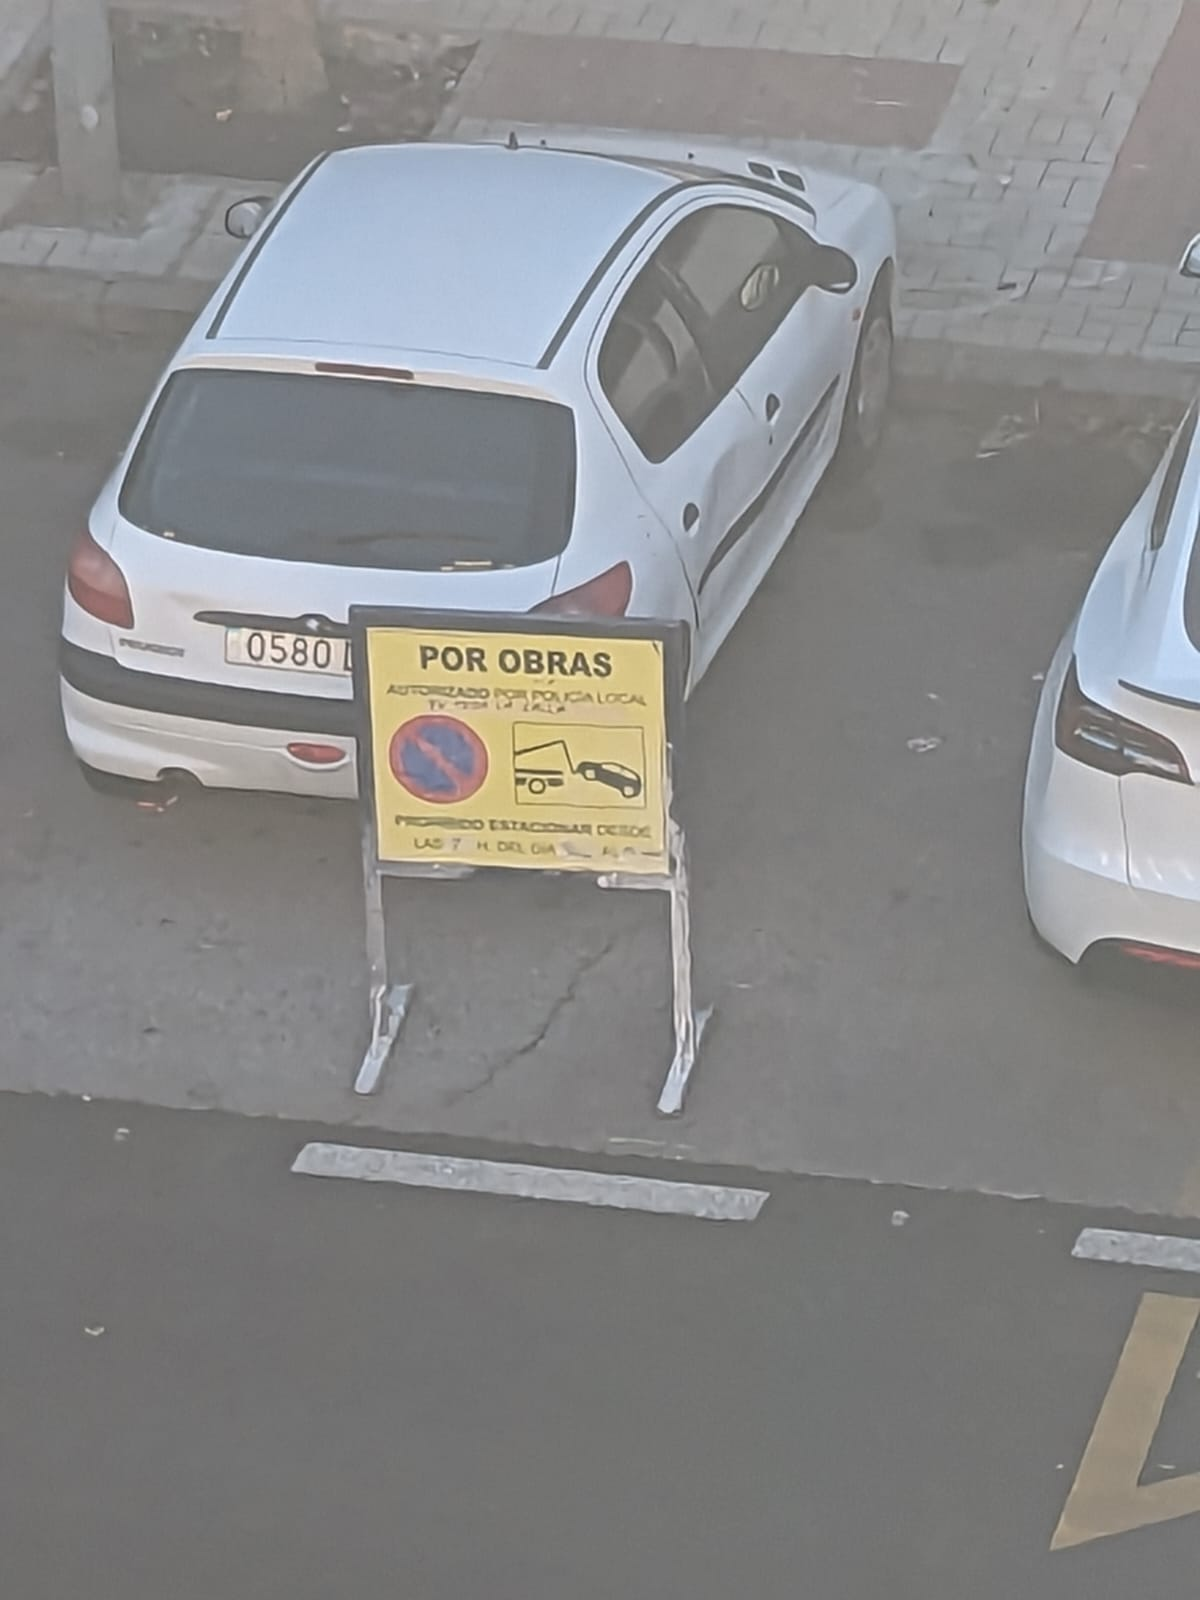car: (45, 108, 937, 839), (976, 287, 1199, 1007)
